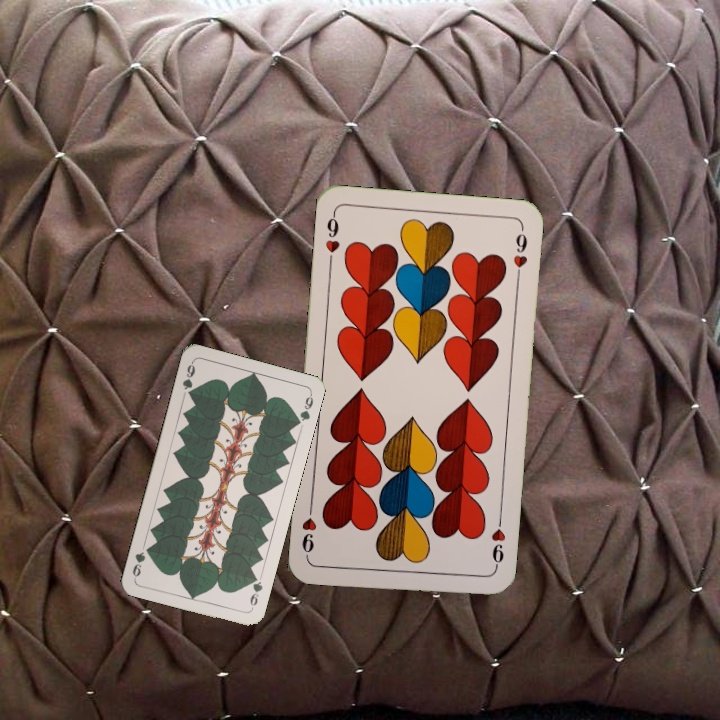G9: (178, 358, 198, 400), (246, 570, 265, 612)
H9: (487, 513, 508, 573), (322, 209, 342, 268)
